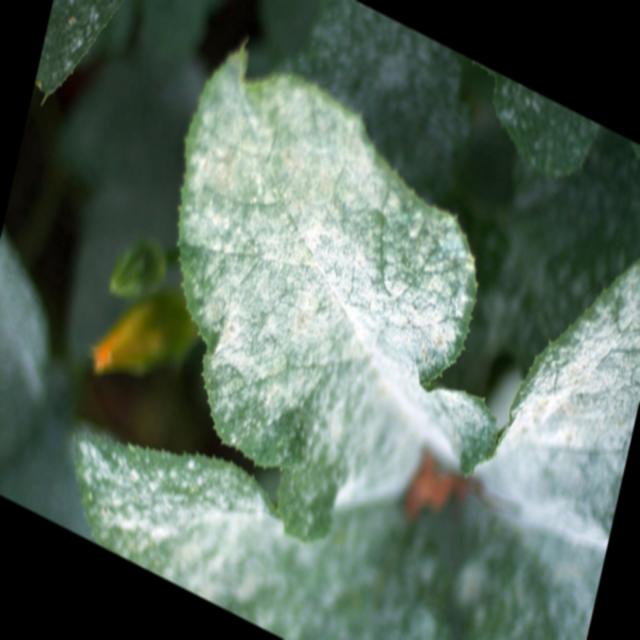Powdery Mildew: (176, 37, 498, 541), (73, 420, 599, 638)
